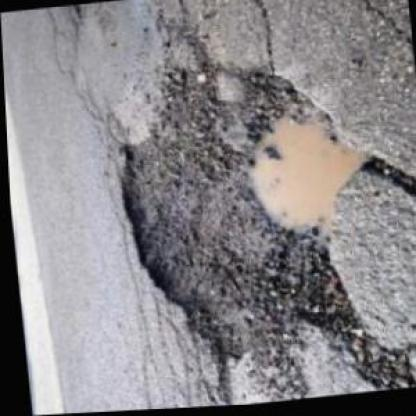pothole: (100, 44, 390, 378)
